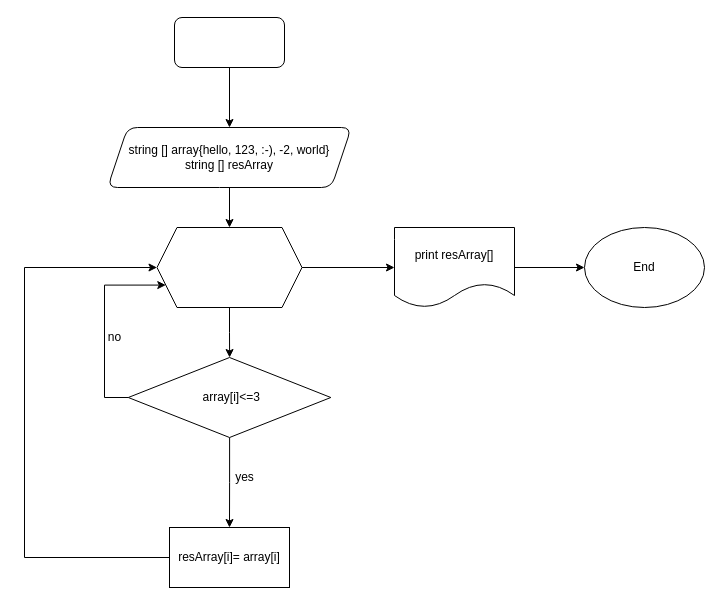
This 722x605 diagram has some shape labels left out. Here are the shapes that lost their labels. From the top down, the centre of each, then its label:
pixel 229 42: Start
pixel 229 267: for i=0, i<array[i], i++
